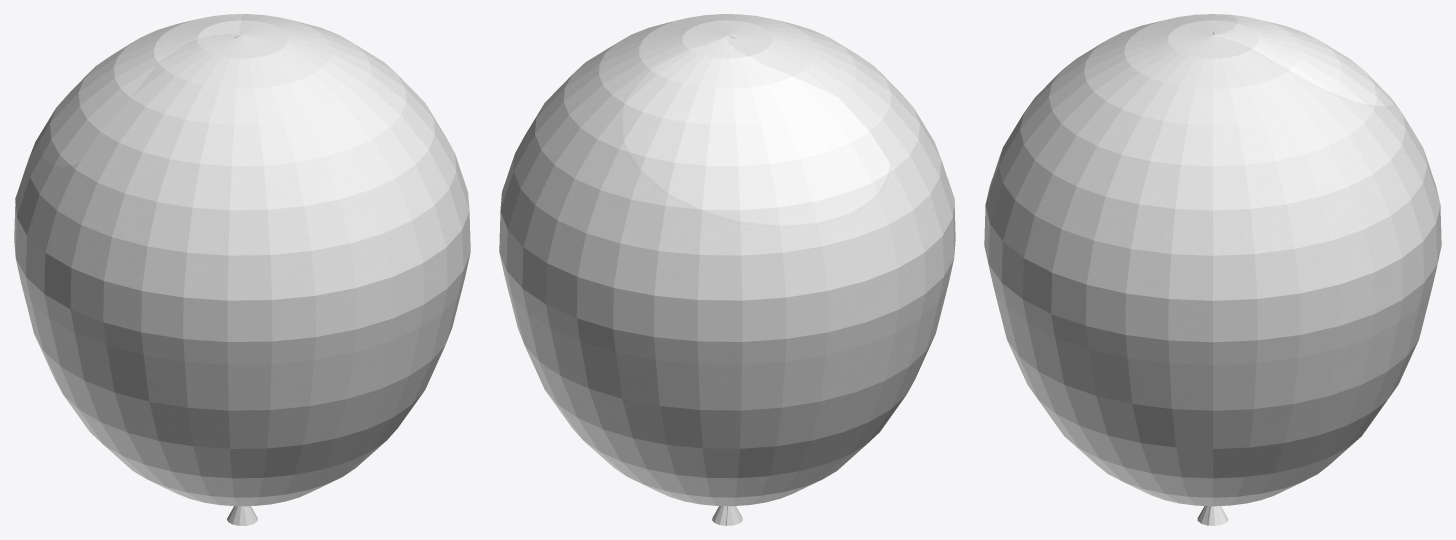
File: globo3.obj
3 views of the same model, side by side, from view 1: azimuth 30°, elevation 25°; view 2: azimuth 150°, elevation 25°; view 3: azimuth 270°, elevation 25° (orthographic).
Visible parts, largest first — view 1: globoRoto2; view 2: globoRoto2; view 3: globoRoto2.
Boxes of the visible parts, box(x1,y1,x2,y2) form: globoRoto2: box(14, 14, 470, 525); globoRoto2: box(499, 14, 955, 525); globoRoto2: box(984, 14, 1441, 525).
Bounding box in the file's own units: 1.2 × 1.4 × 1.2.
1 material, 1 textured.
